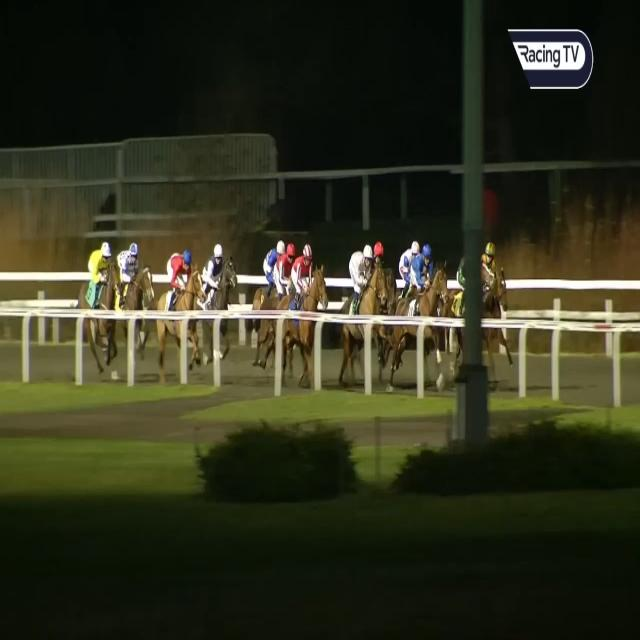horses-racing: (284, 230, 331, 382), (396, 243, 439, 362), (74, 236, 115, 353), (159, 244, 199, 362), (192, 240, 234, 348), (476, 225, 513, 336), (337, 243, 375, 344), (244, 232, 287, 319), (266, 236, 301, 330), (441, 254, 475, 350), (388, 234, 422, 323), (118, 233, 149, 318), (366, 234, 391, 286)
